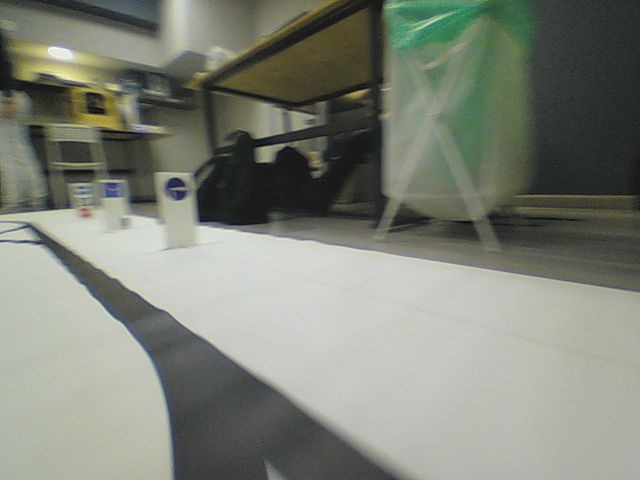Right: (164, 176, 189, 201)
